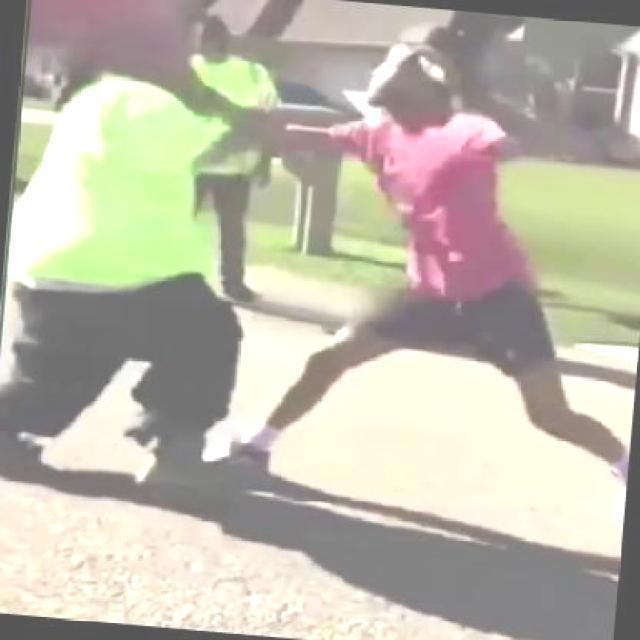non-fight: (0, 10, 545, 508)
